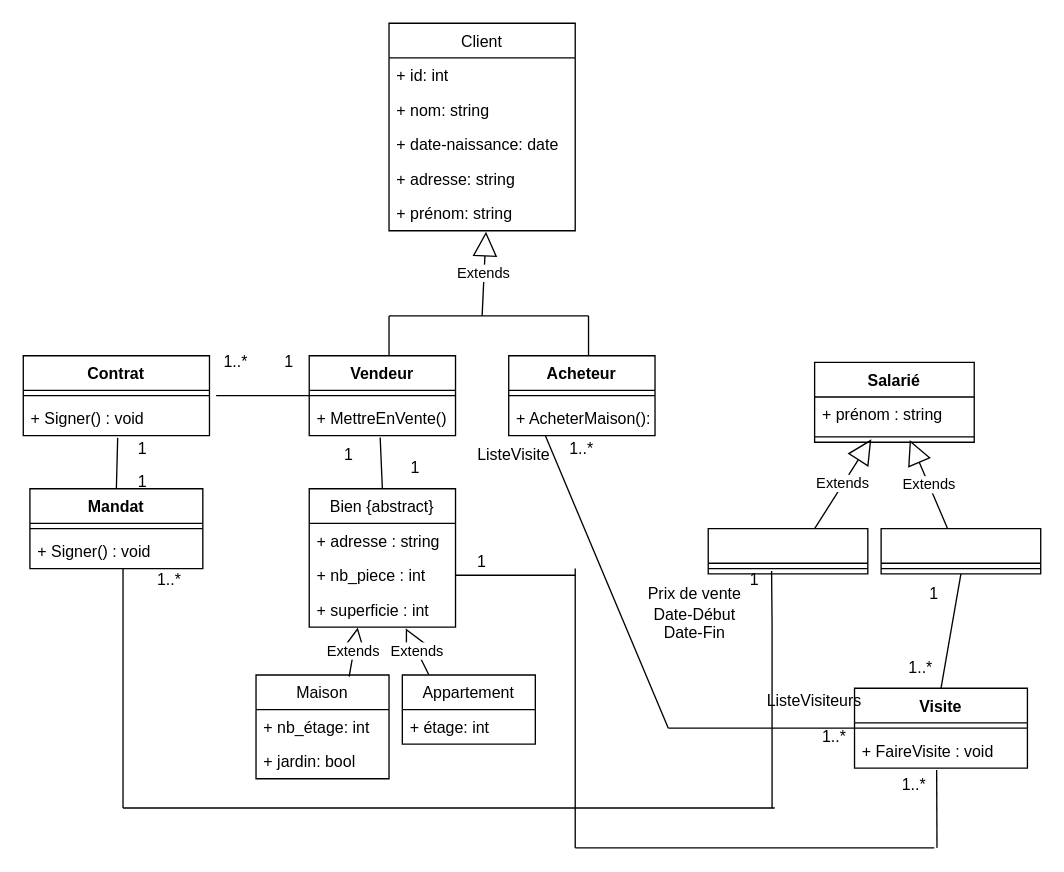
Some shapes in this 1064 by 872 pixel diagram are drawn without their labels. Each missing label, with the centre of its shape:
"Agent" belongs at point 787,550.
"Employé" belongs at point 960,550.
